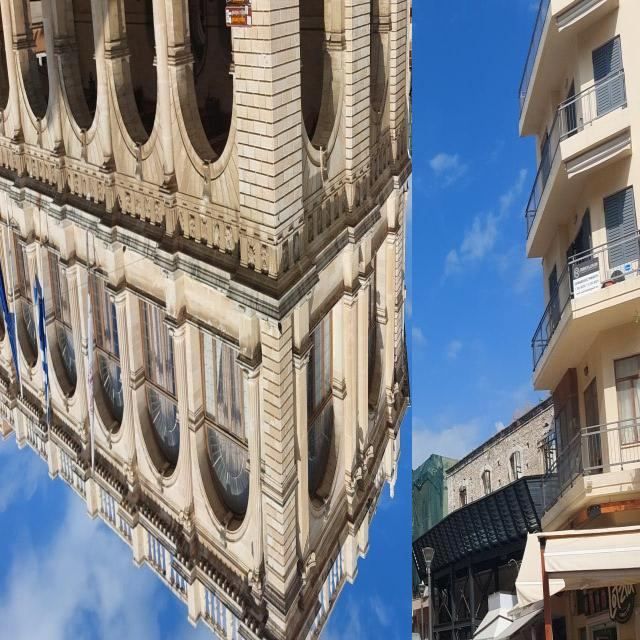Loggia: (1, 1, 413, 640)
